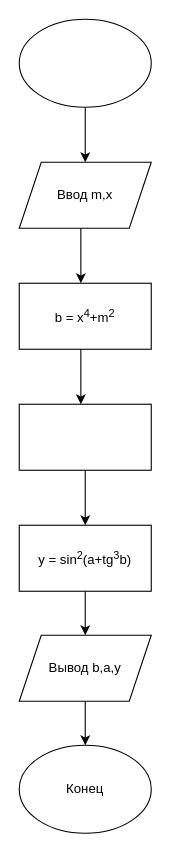
Image size: 171x853. Some labels were removed from this diagram. Here are the shapes that lost their labels. From the top down, the box of each, then its label:
(18, 18, 151, 107): Начало
(18, 403, 151, 470): a =sqrt|x|
